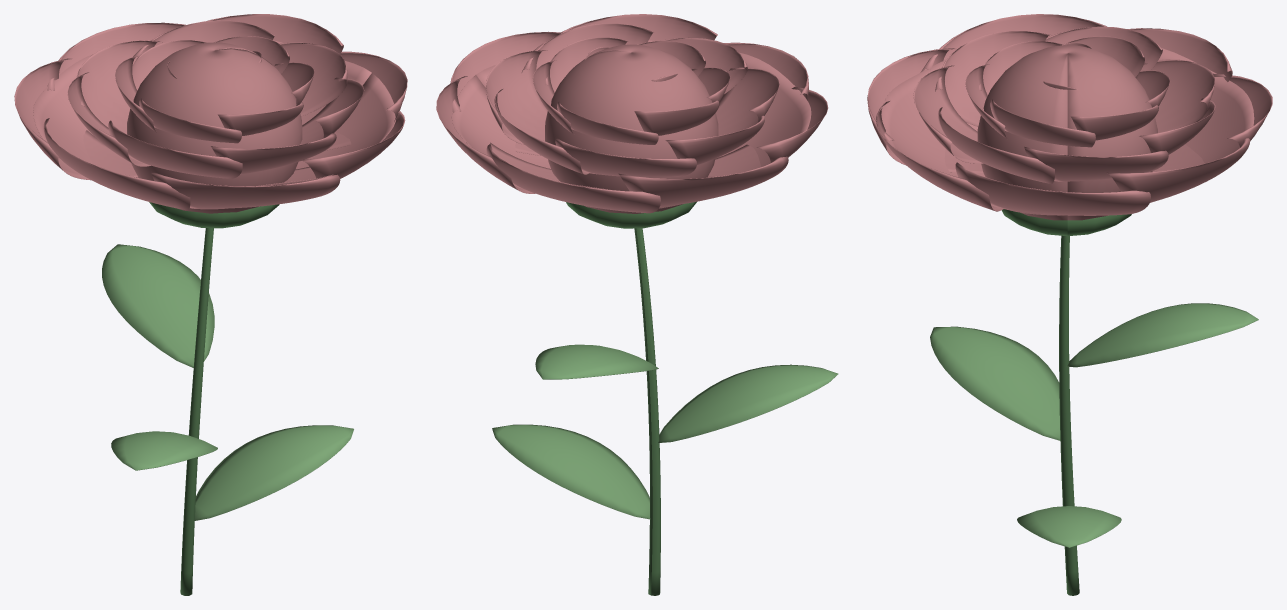
Rendered from rose-common-v2.glb.
3 renders of one model, left to right at view 1: azimuth 30°, elevation 25°; view 2: azimuth 150°, elevation 25°; view 3: azimuth 270°, elevation 25°, orthographic. The views are drawn at different scales.
Parts seen in each view (by area): view 1: rose-common-v2-petal, rose-common-v2-leaf, rose-common-v2-stem; view 2: rose-common-v2-petal, rose-common-v2-leaf, rose-common-v2-stem; view 3: rose-common-v2-petal, rose-common-v2-leaf, rose-common-v2-stem.
Boxes of the visible parts, box(x1,y1,x2,y2) form: rose-common-v2-petal: box(14, 14, 407, 213); rose-common-v2-leaf: box(102, 244, 353, 520); rose-common-v2-stem: box(149, 202, 279, 595); rose-common-v2-petal: box(436, 14, 828, 213); rose-common-v2-leaf: box(492, 344, 838, 519); rose-common-v2-stem: box(566, 201, 696, 595); rose-common-v2-petal: box(867, 14, 1272, 220); rose-common-v2-leaf: box(930, 303, 1258, 547); rose-common-v2-stem: box(1002, 209, 1131, 595).
Size of the model in its own units: 1.08 by 1.63 by 1.08.
